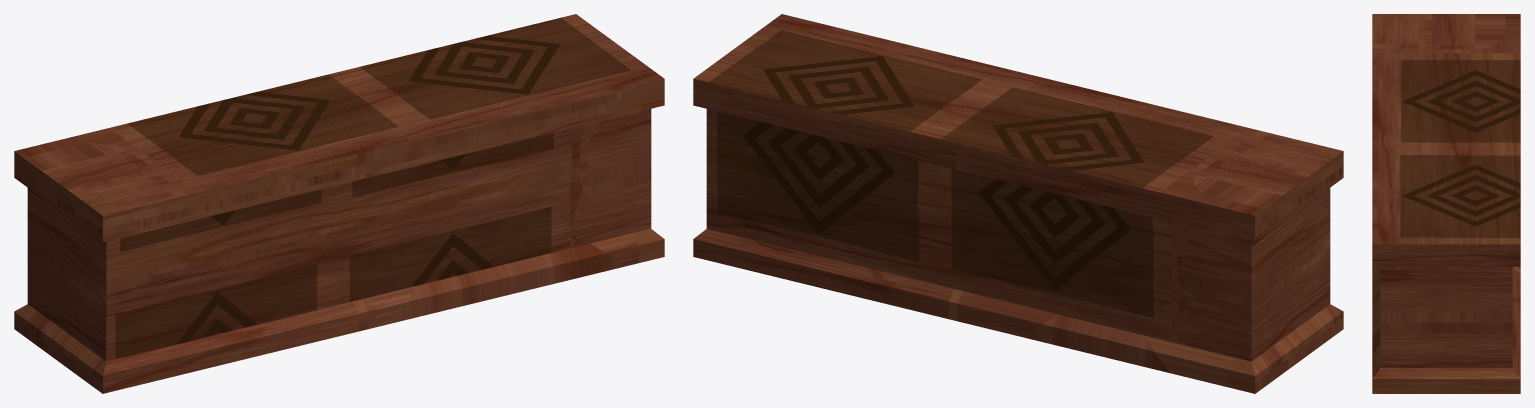
Rendered from mesa.obj.
The picture shows the model from 3 angles, left to right: view 1: azimuth 30°, elevation 25°; view 2: azimuth 150°, elevation 25°; view 3: azimuth 270°, elevation 25°; orthographic projection. The views are drawn at different scales.
Visible parts, largest first — view 1: Cube_329__lambert1_0; view 2: Cube_329__lambert1_0; view 3: Cube_329__lambert1_0.
Boxes of the visible parts, left/top/right/bottom form: Cube_329__lambert1_0: left=14, top=14, right=664, bottom=393; Cube_329__lambert1_0: left=693, top=14, right=1343, bottom=393; Cube_329__lambert1_0: left=1372, top=14, right=1520, bottom=393.
Size of the model in its own units: 4.13 by 1.25 by 1.13.
